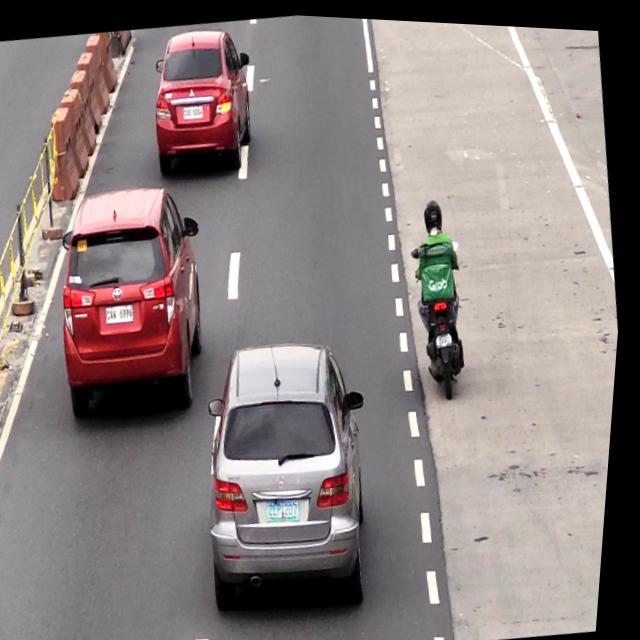Car: (194, 332, 394, 615), (47, 181, 221, 409), (141, 18, 266, 180)
License-Plate: (272, 492, 310, 528), (107, 300, 141, 326), (183, 102, 208, 122)
Motorcycle: (401, 191, 488, 403)
